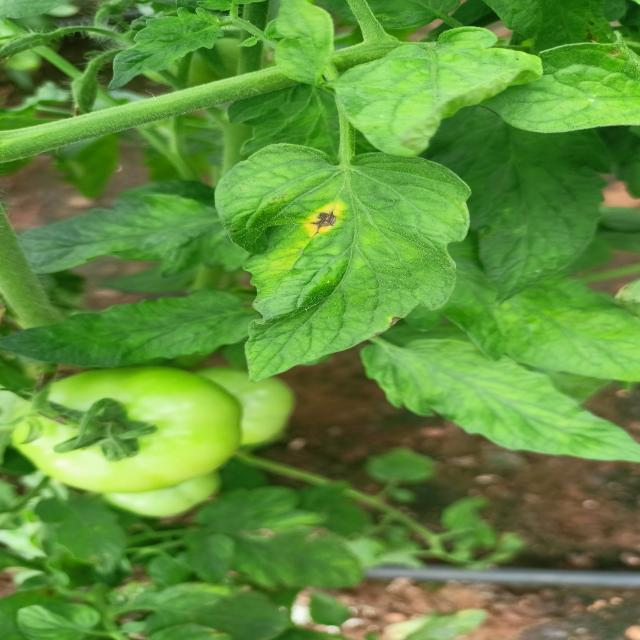Tomato mosaic virus leaf: (208, 143, 480, 384)
